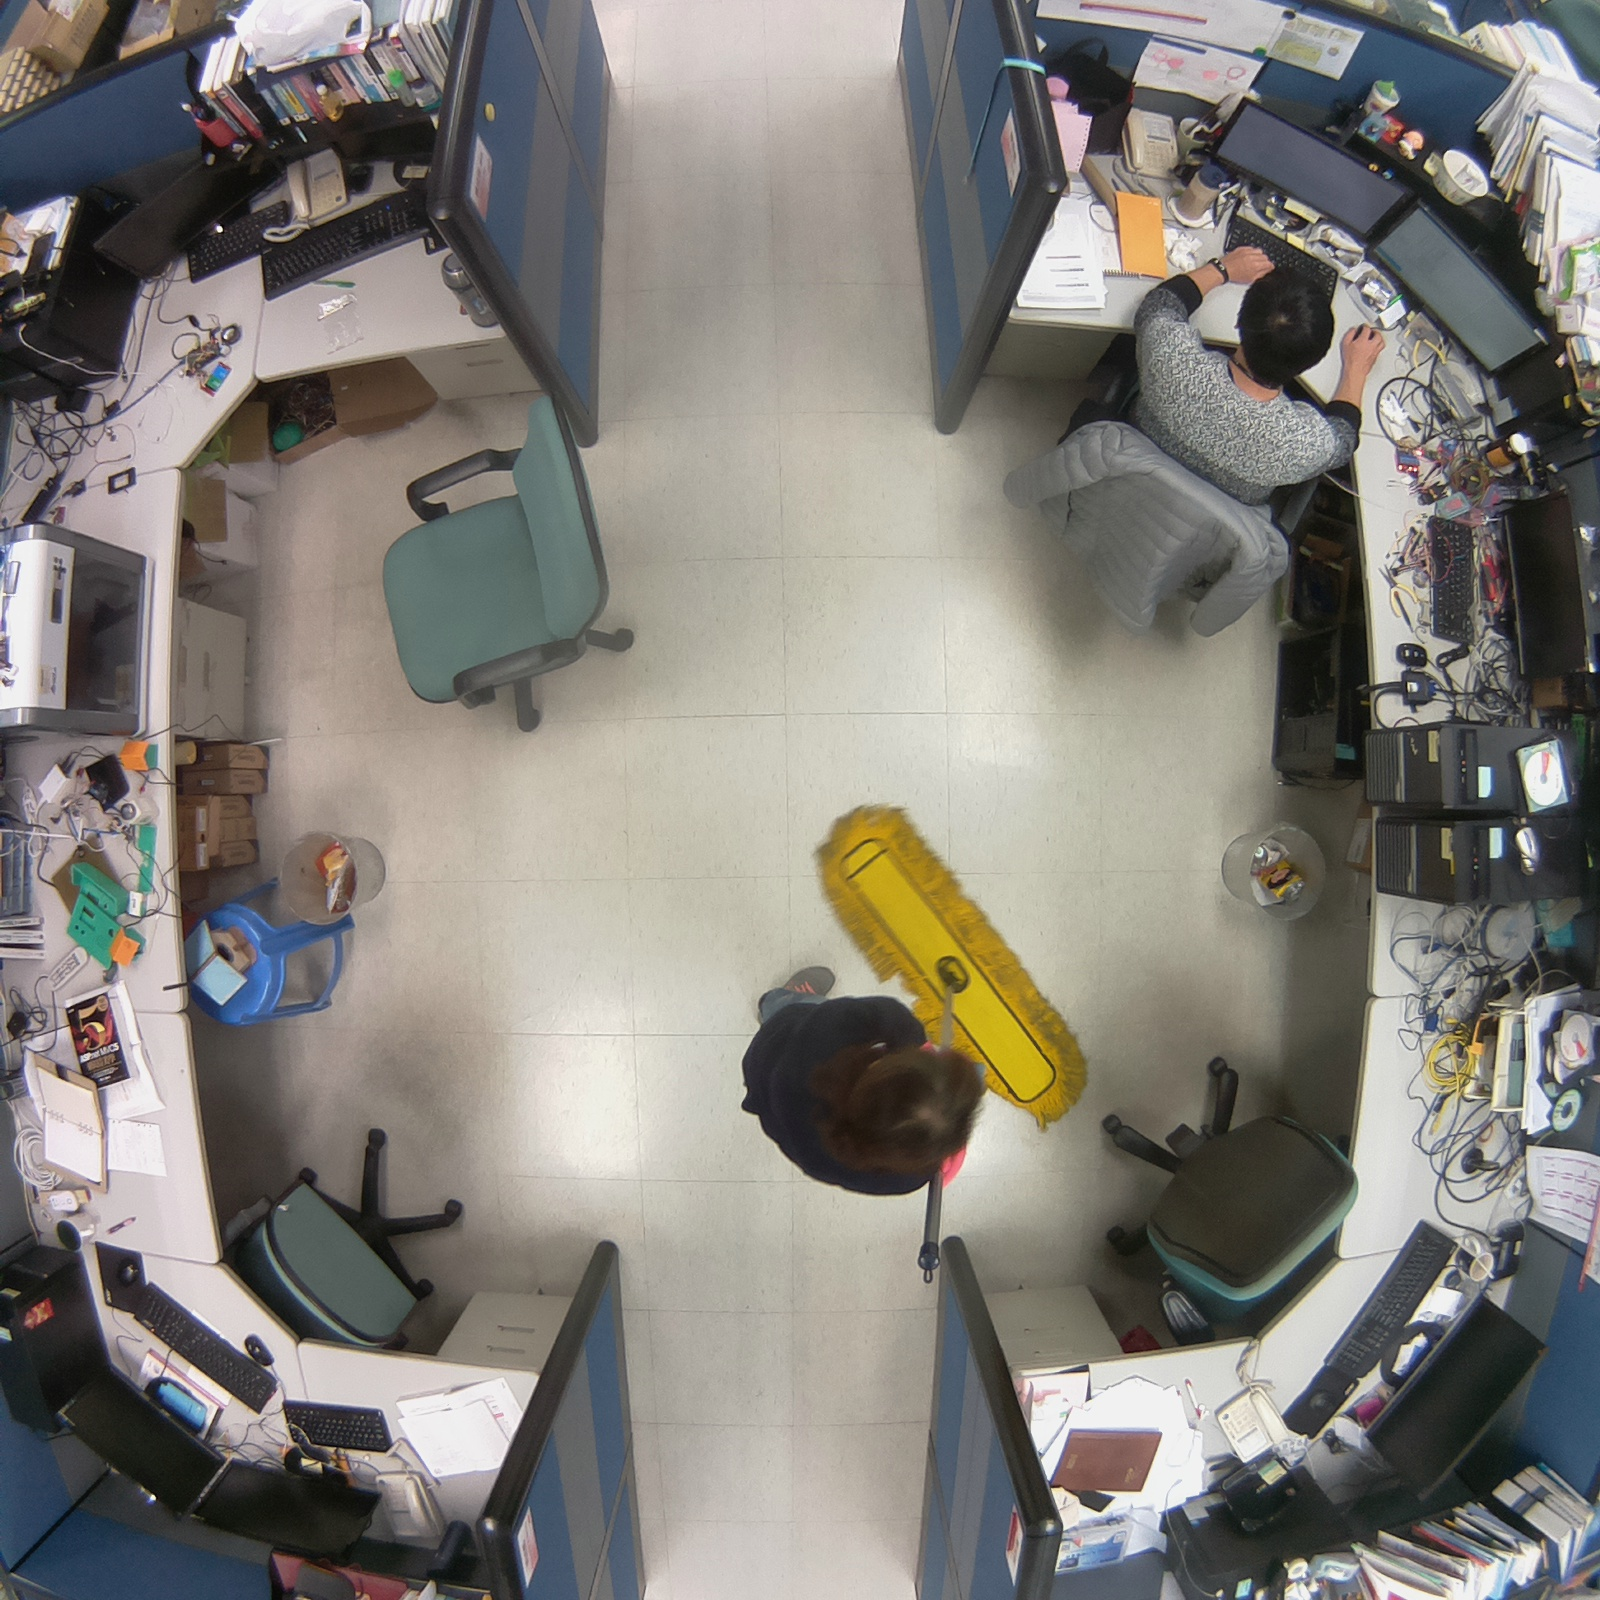chair: (363, 375, 667, 762), (1078, 1040, 1374, 1363), (199, 1109, 484, 1373)
sitting: (988, 232, 1392, 667)
standing: (700, 944, 1010, 1234)
